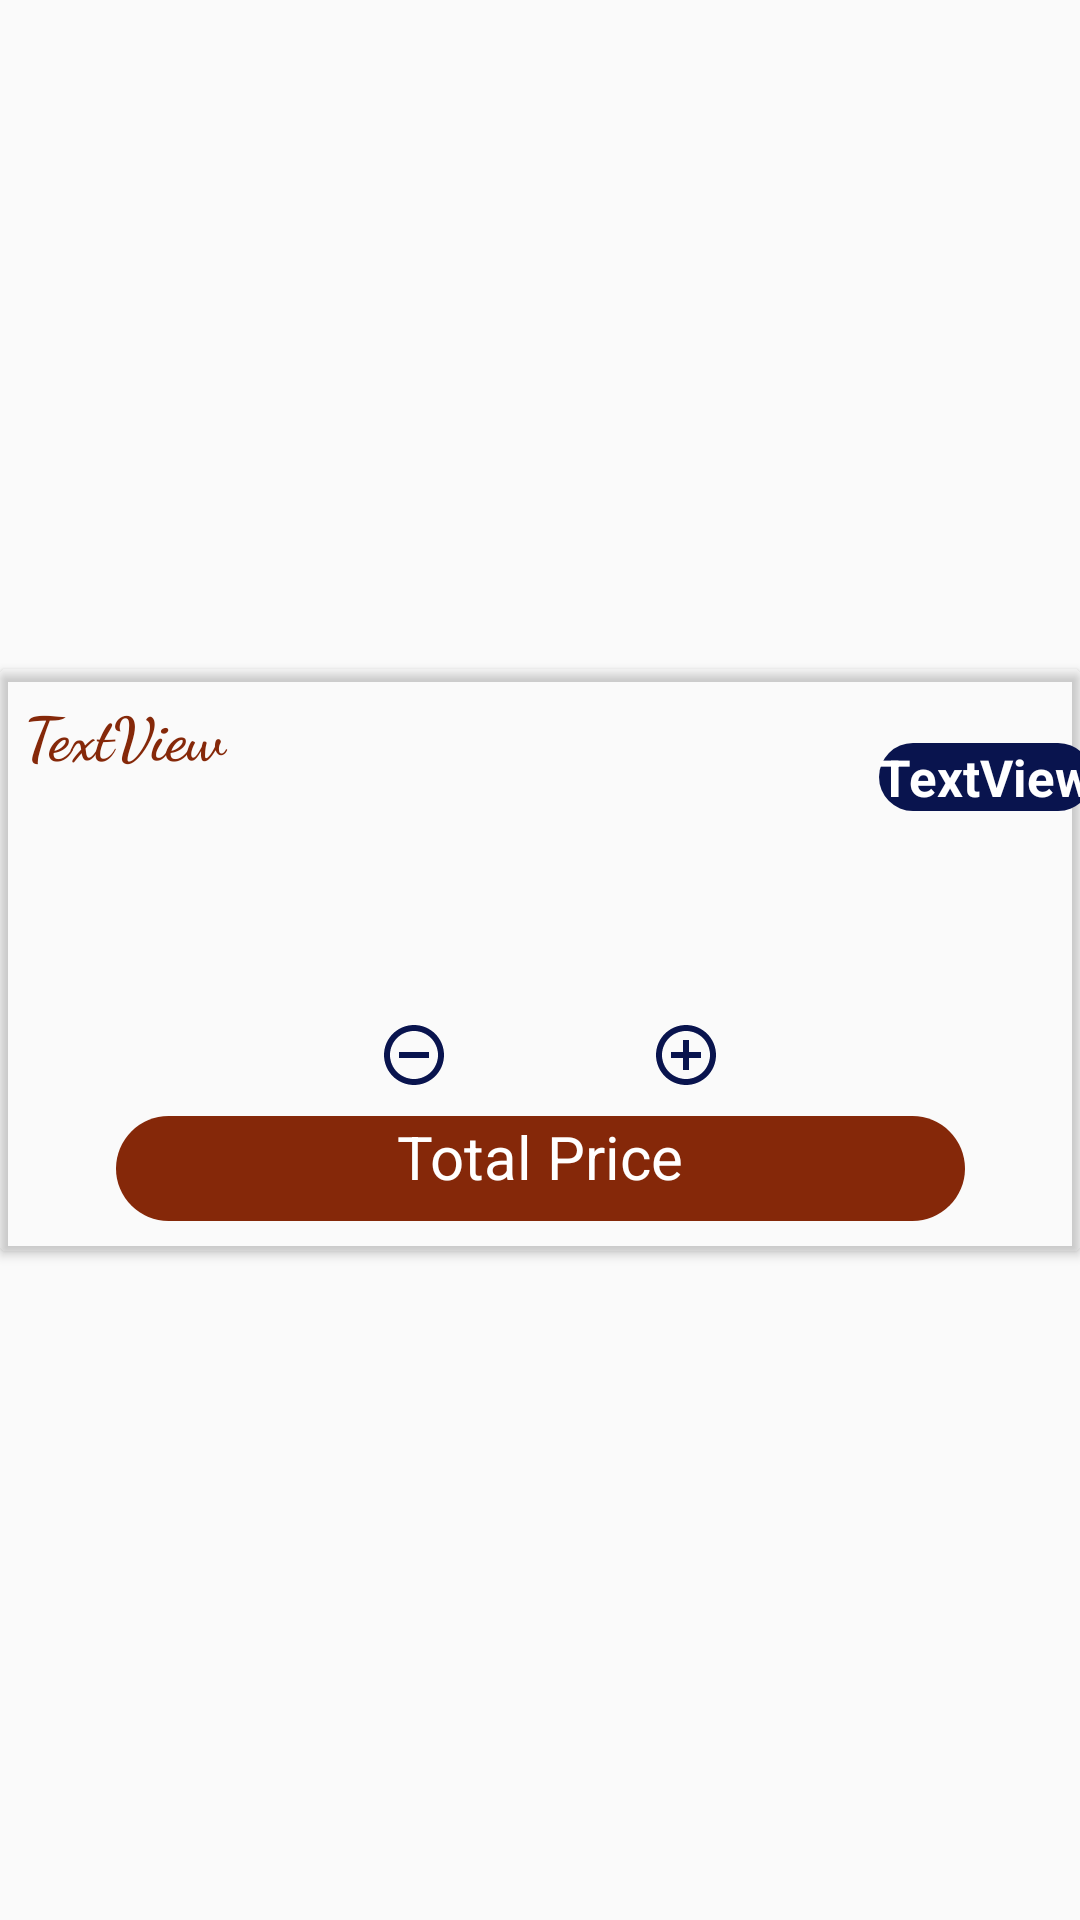

Where to tap for icons on this 1080x1920 app screen, as [x,y]:
add circle: [686,1055]
remove circle: [414,1055]
